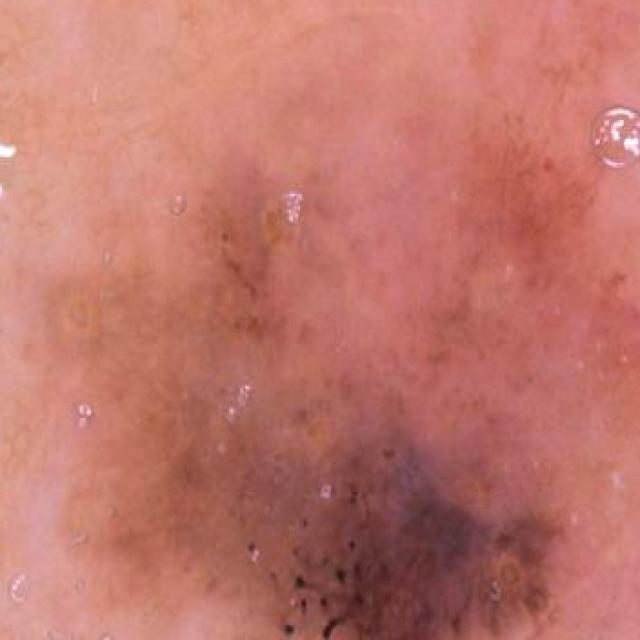NV: (43, 85, 640, 640)
